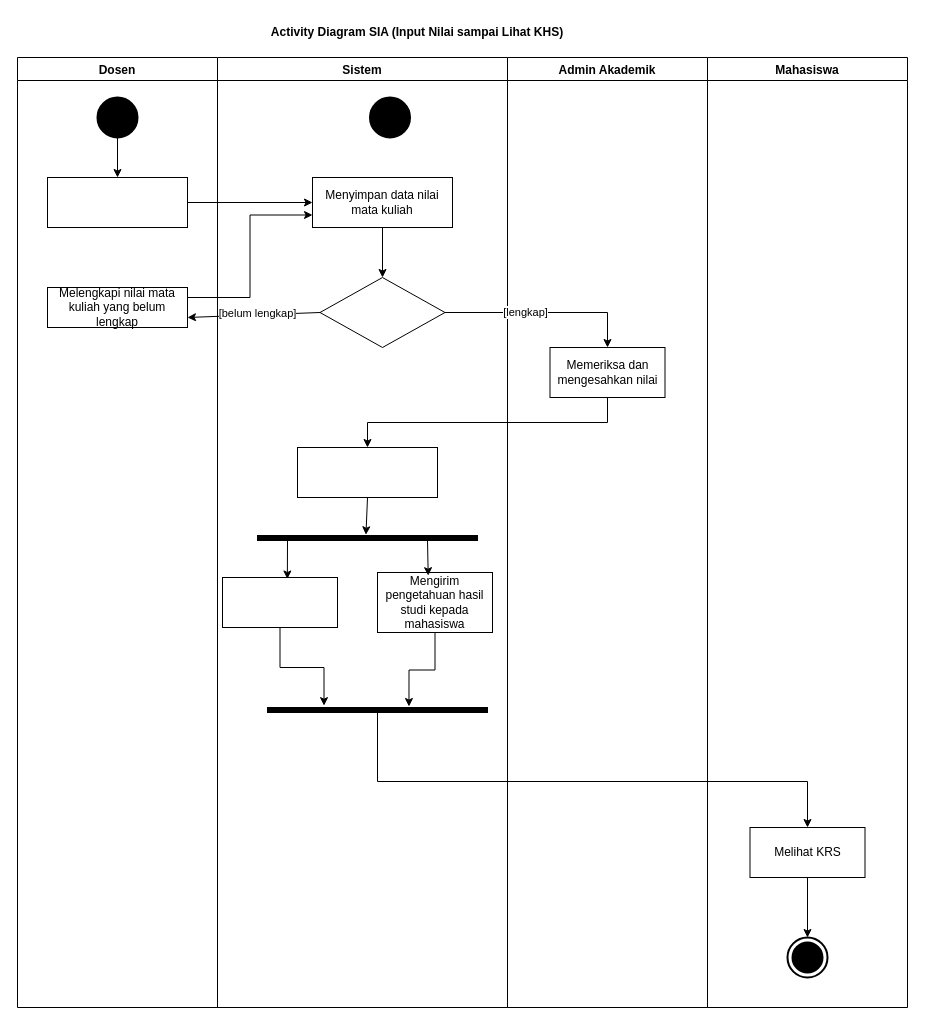
Some shapes in this 925 by 1025 pixel diagram are drawn without their labels. Each missing label, with the centre of its shape:
Memasuki nilai mata kuliah: the point at 117,202
Menerbitkan KRS pada portal akademik: the point at 280,602
Menyiapkan publikasi hasil studi: the point at 367,472
Nilai sudah lengkap ?: the point at 382,312
